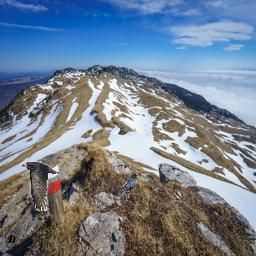Crow: (20, 161, 60, 211), (117, 173, 139, 196)
